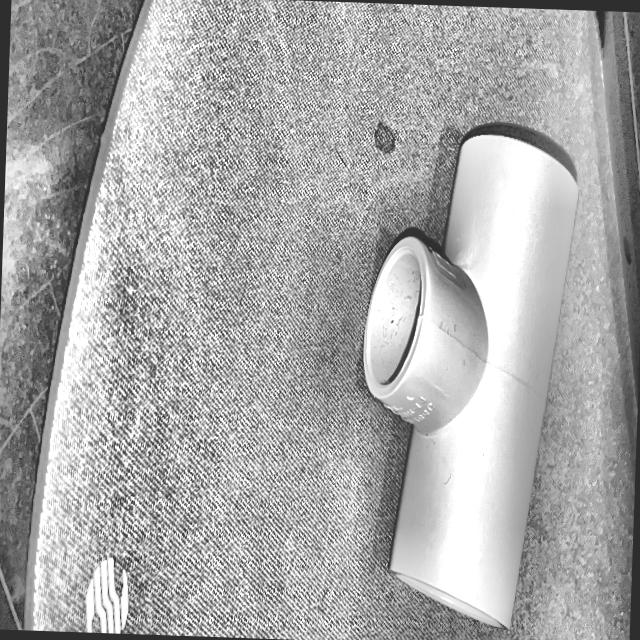EQUALTEE: (362, 121, 578, 626)
